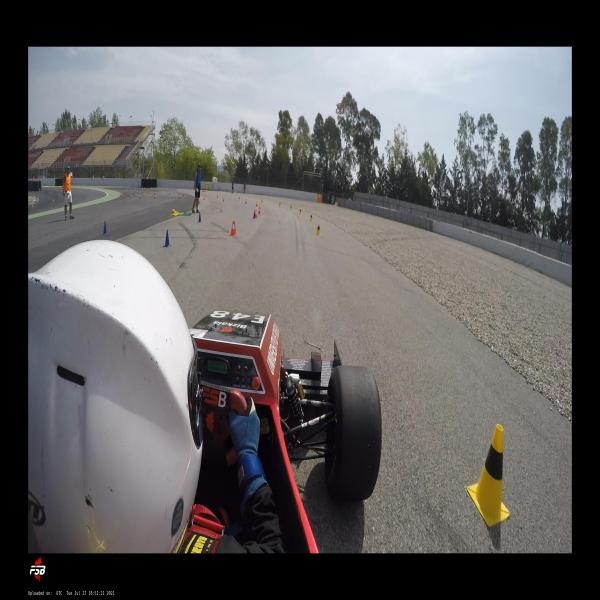orange_cone: (230, 221, 236, 236), (255, 210, 257, 218), (258, 207, 260, 214), (259, 204, 261, 210), (245, 199, 247, 204), (179, 194, 181, 199), (154, 194, 156, 199), (130, 194, 132, 198), (256, 201, 257, 207), (204, 195, 205, 200), (140, 194, 141, 199), (223, 197, 224, 201)
unknown_cone: (163, 229, 171, 247), (102, 221, 108, 235), (198, 212, 202, 223), (253, 210, 255, 219)
yellow_cone: (466, 424, 510, 527), (316, 224, 320, 236), (310, 214, 312, 222), (300, 209, 302, 214), (279, 202, 281, 207), (238, 196, 240, 201), (182, 193, 184, 198), (290, 206, 292, 210), (217, 195, 218, 199), (169, 193, 170, 197), (262, 199, 262, 203)
